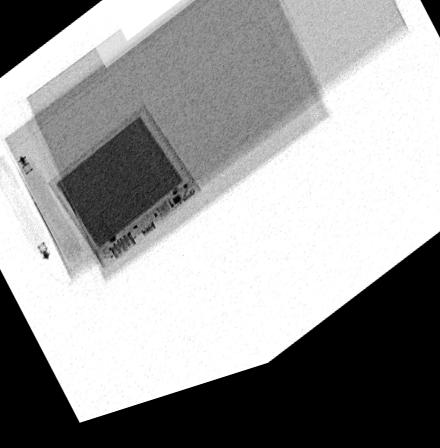Powerbank: (47, 113, 202, 276)
